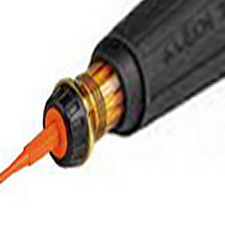Screwdriver: (1, 3, 225, 185)
